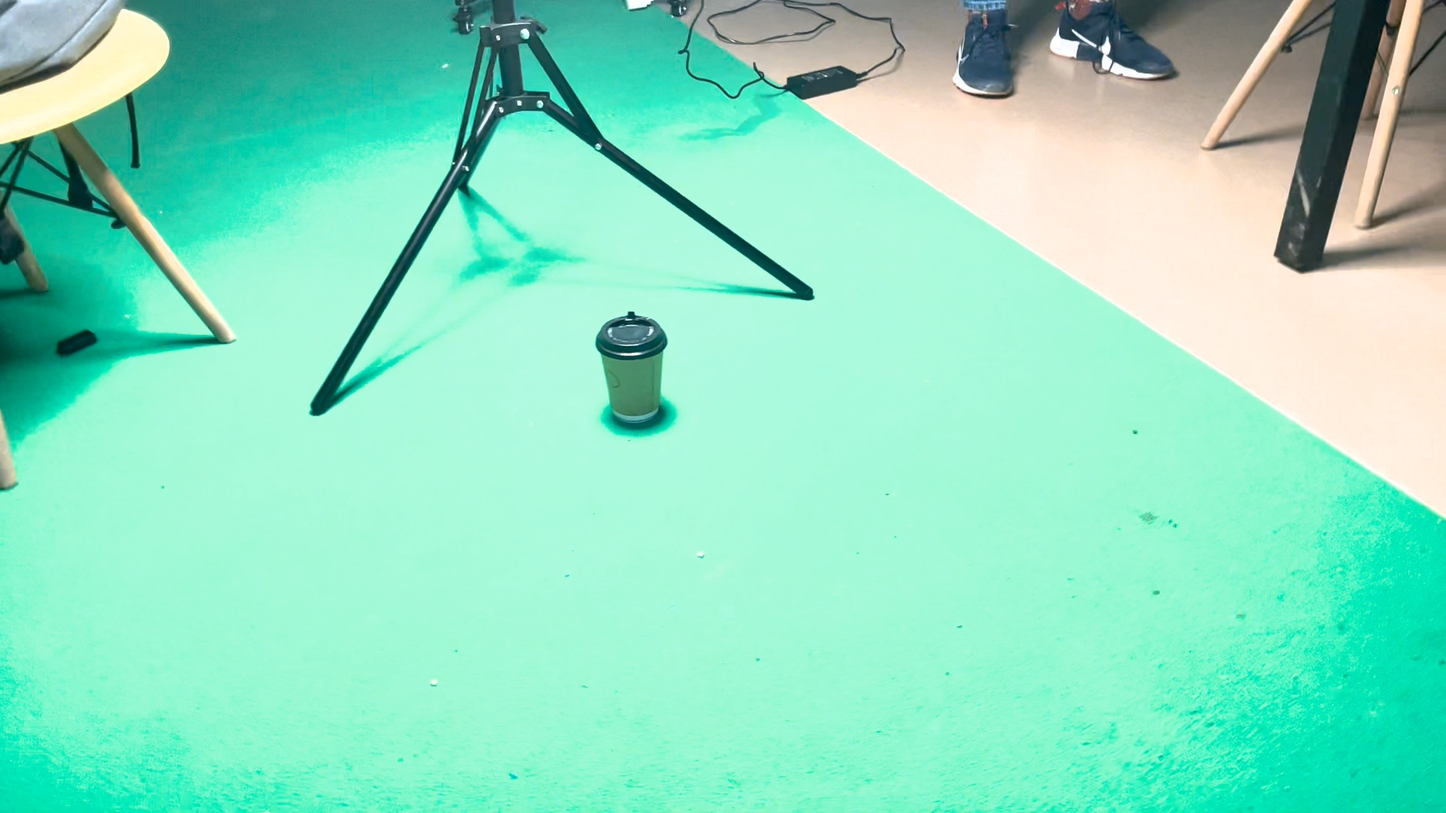cup: (689, 458, 802, 608)
